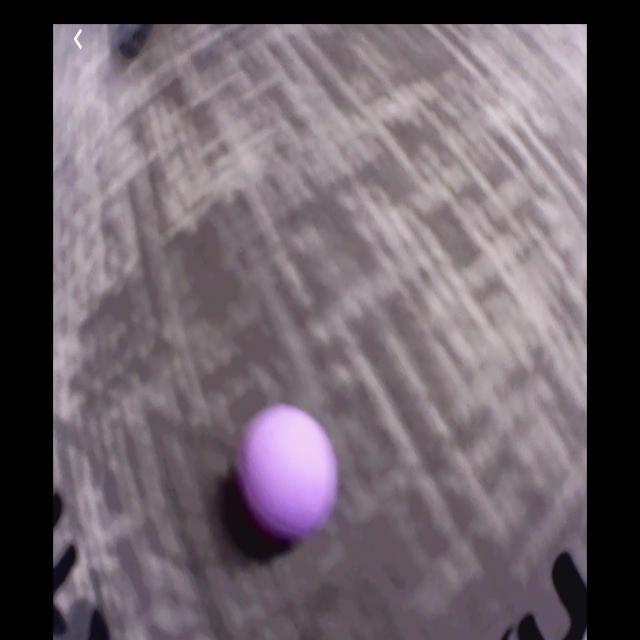ball: (241, 404, 341, 544)
